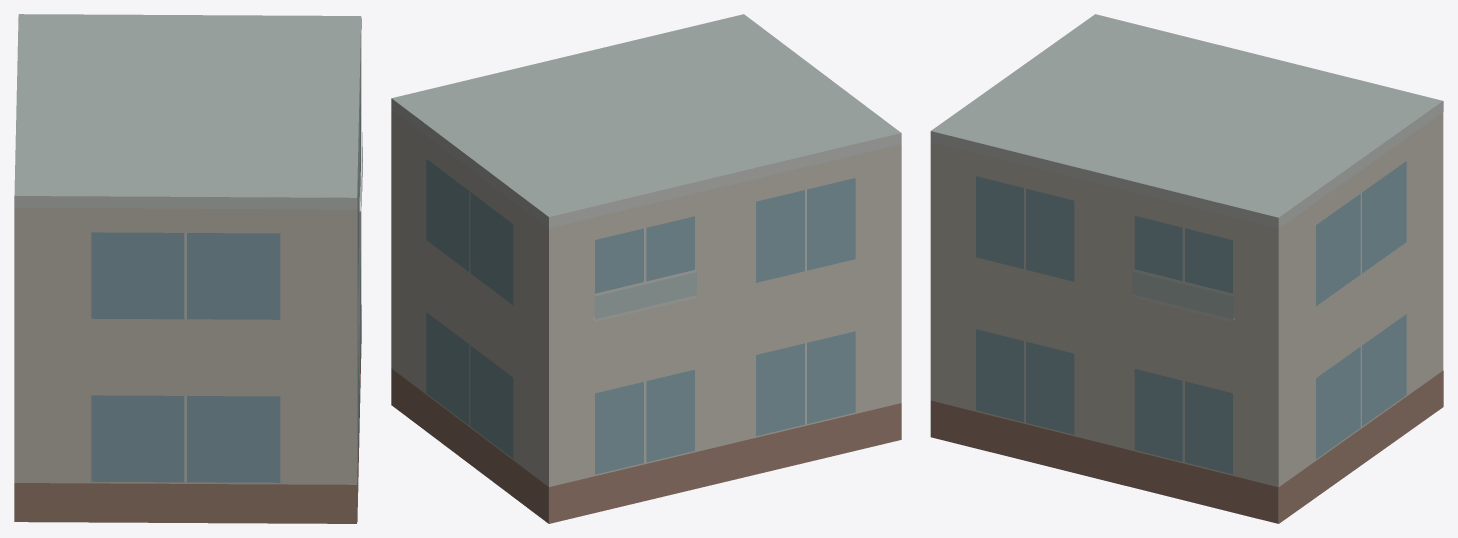
The model's file is survey-upis-32500215.glb.
3 views of the same model, side by side, from view 1: azimuth 30°, elevation 25°; view 2: azimuth 150°, elevation 25°; view 3: azimuth 270°, elevation 25° (orthographic). The views are drawn at different scales.
Parts seen in each view (by area): view 1: survey-upis-32500215.tmp; view 2: survey-upis-32500215.tmp; view 3: survey-upis-32500215.tmp.
Part boxes in pixels (x1,y1,x2,y2): survey-upis-32500215.tmp: (14,14,362,523); survey-upis-32500215.tmp: (391,14,901,523); survey-upis-32500215.tmp: (930,14,1443,523).
Size of the model in its own units: 9.57 by 6.7 by 10.18.
